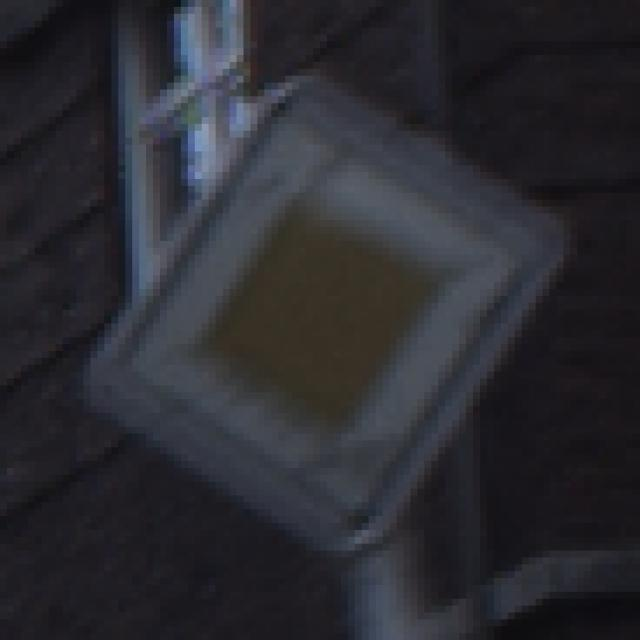Main Road: (64, 63, 585, 586)
